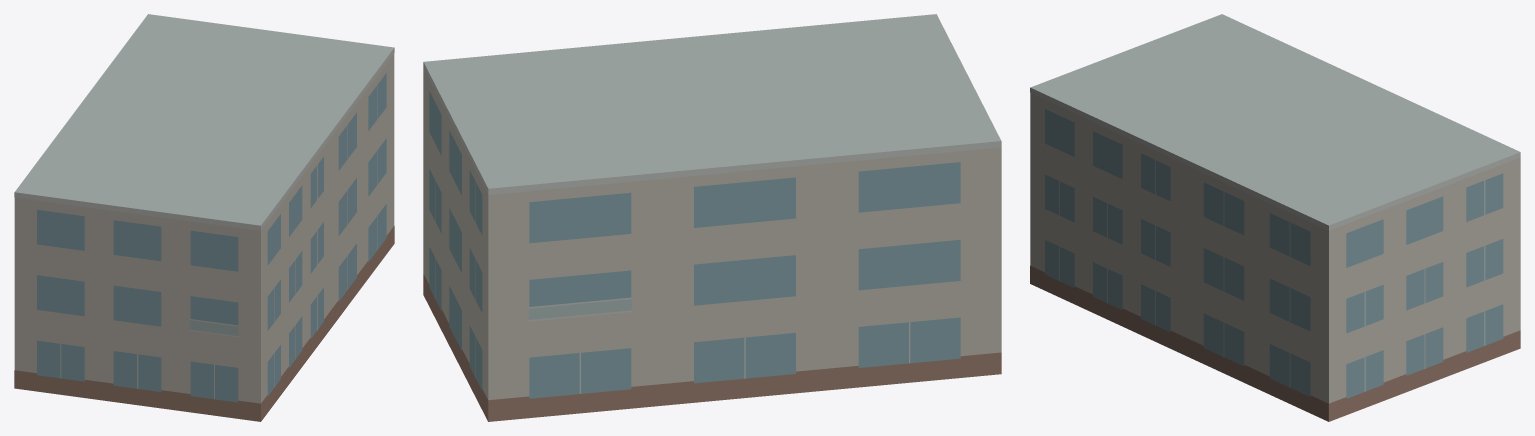
File: survey-upis-32924860.glb
3 renders of one model, left to right at view 1: azimuth 30°, elevation 25°; view 2: azimuth 150°, elevation 25°; view 3: azimuth 270°, elevation 25°, orthographic. The views are drawn at different scales.
Parts seen in each view (by area): view 1: survey-upis-32924860.tmp; view 2: survey-upis-32924860.tmp; view 3: survey-upis-32924860.tmp.
Boxes of the visible parts, x1=… form: survey-upis-32924860.tmp: x1=14, y1=14, x2=394, y2=421; survey-upis-32924860.tmp: x1=423, y1=14, x2=1001, y2=421; survey-upis-32924860.tmp: x1=1030, y1=14, x2=1520, y2=421.
Bounding box in the file's own units: 21.15 × 9.15 × 20.72.
